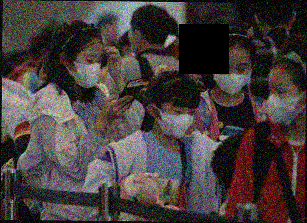with_mask: (154, 99, 198, 141), (211, 57, 253, 99), (267, 80, 303, 127), (64, 51, 104, 90)
